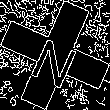N_NE: (26, 23, 84, 87)
